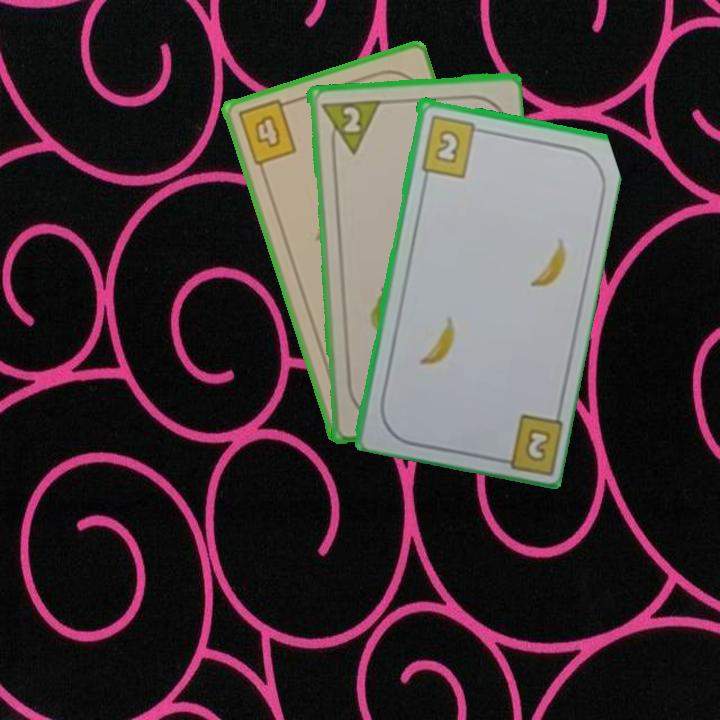2b: (417, 111, 487, 180), (521, 424, 554, 464)
2p: (317, 95, 381, 158)
4b: (234, 96, 299, 168)
